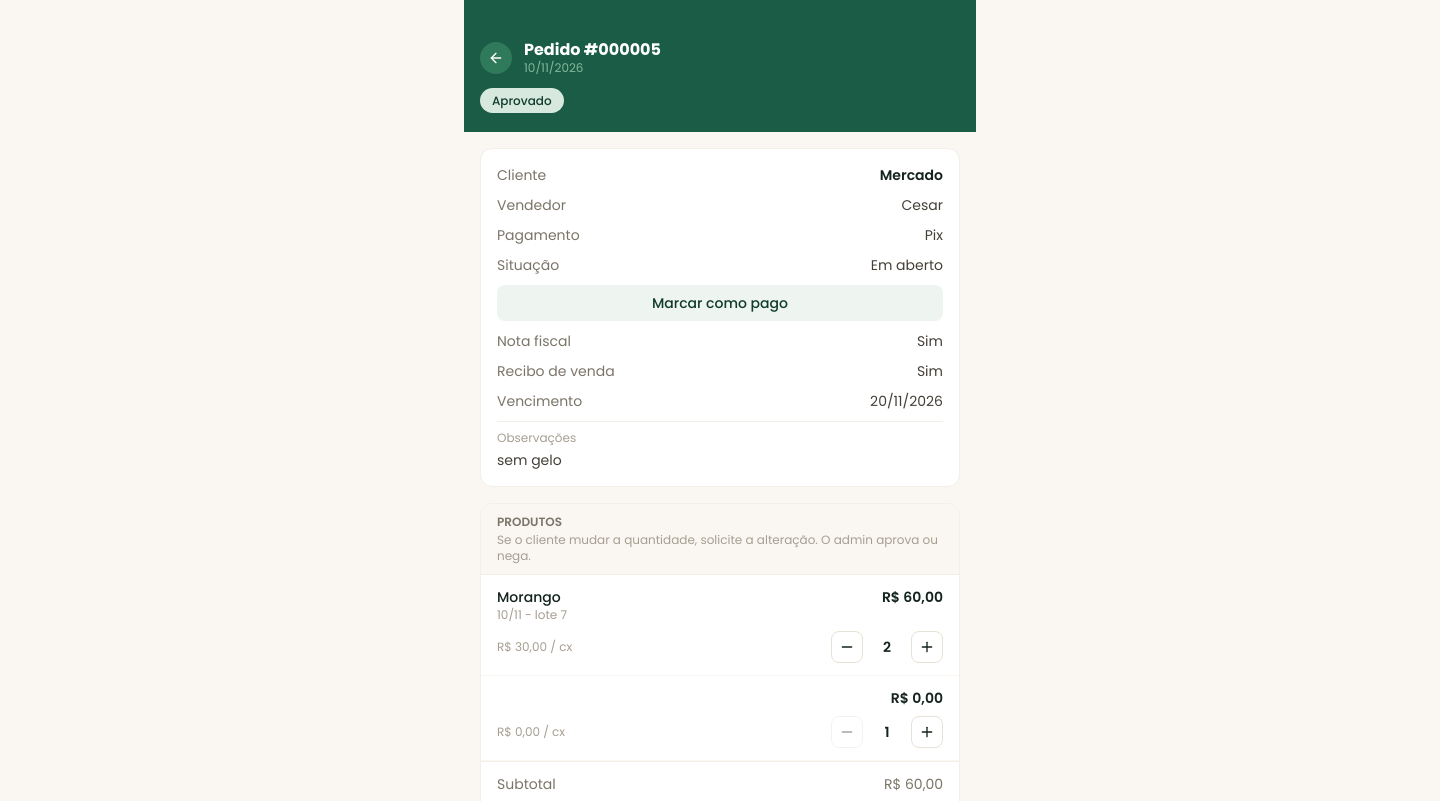
Scenario: detalhe do pedido › marcar como pago com a forma do pedido
Later steps or results of the test are not shown.
What coordinates should you click on to do the following:
click the button "Marcar como pago"
I would click on:
 (720, 303)
Its box is left=497, top=285, right=943, bottom=321.
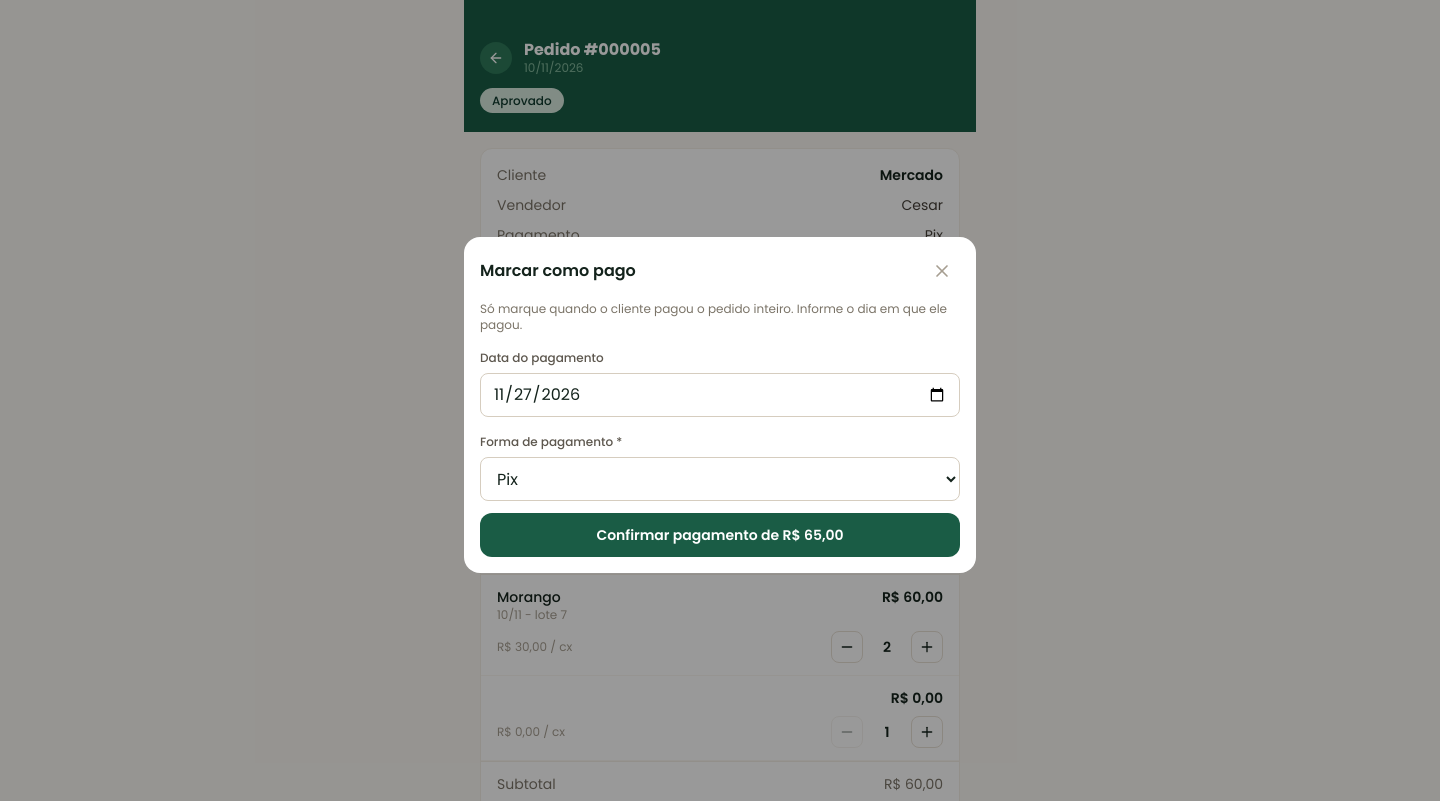
Check: the dropdown shows "Pix", box left=480, top=457, right=960, bottom=501
